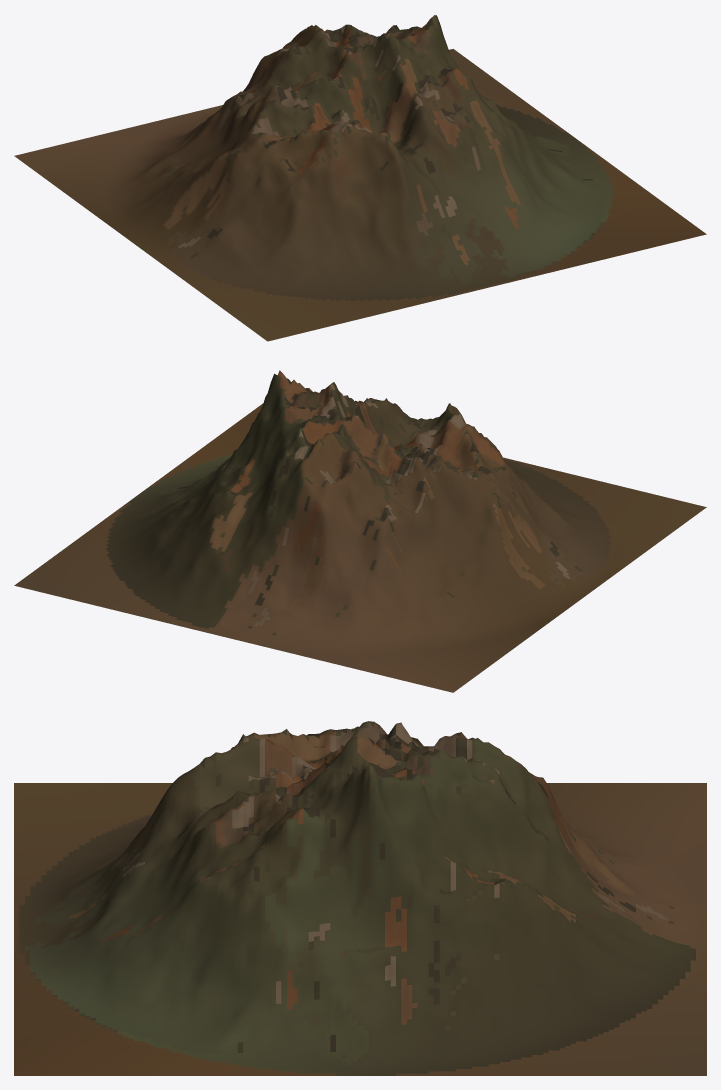
The model's file is dag.fbx.
3 views of the same model, one above another, from view 1: azimuth 30°, elevation 25°; view 2: azimuth 150°, elevation 25°; view 3: azimuth 270°, elevation 25° (orthographic). The views are drawn at different scales.
Parts seen in each view (by area): view 1: dag; view 2: dag; view 3: dag.
Boxes of the visible parts, x1,y1,x2,y2 form: dag: (14,15,706,341); dag: (14,370,706,692); dag: (14,721,706,1075).
Bounding box in the file's own units: 26660 × 9254 × 26660.
